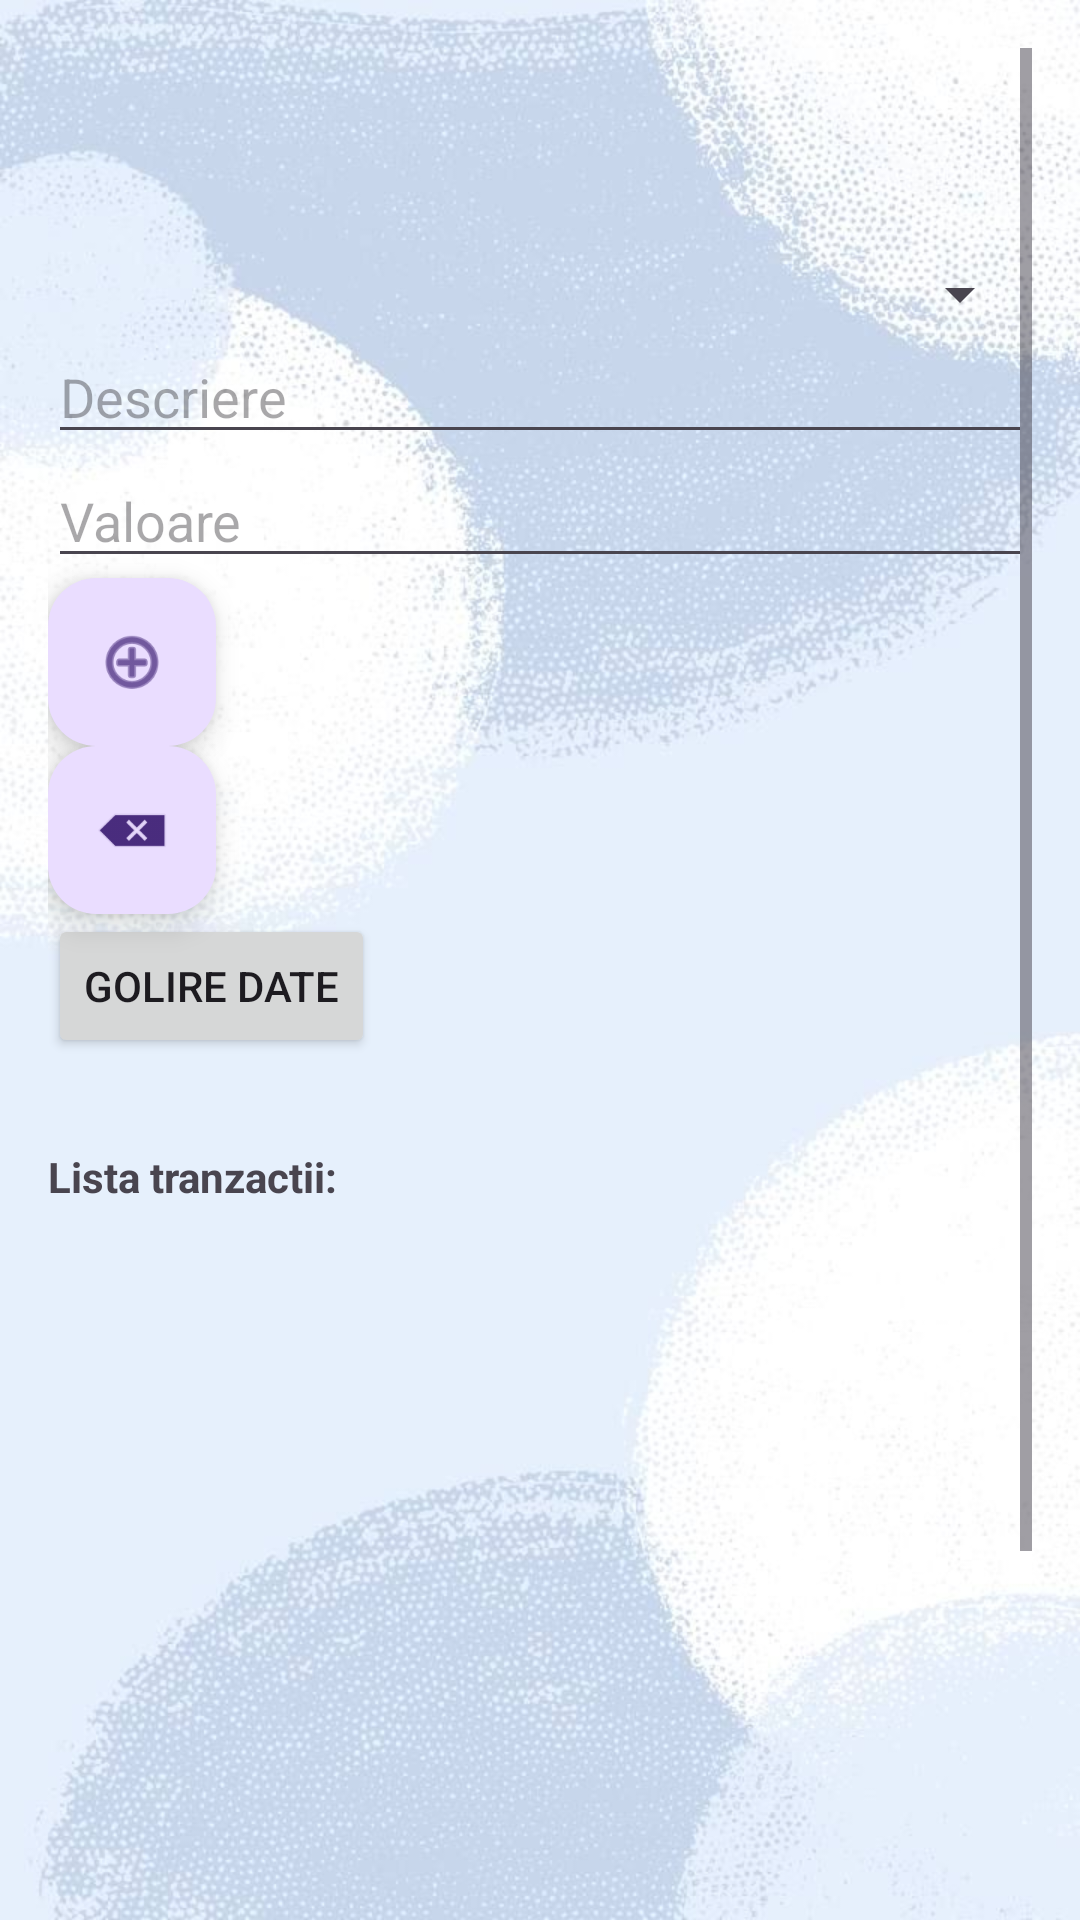

Screen size 1080x1920. Icon name, then its box in pixels as [x1,y1,x2,y2]:
Delete: [48,746,216,914]
